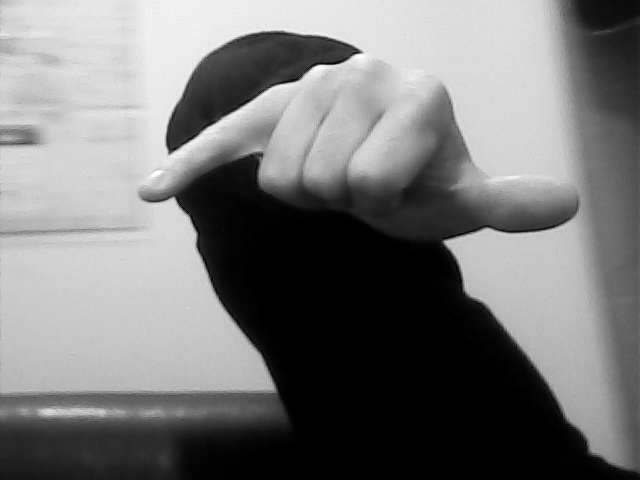aloha: (134, 45, 579, 240)
